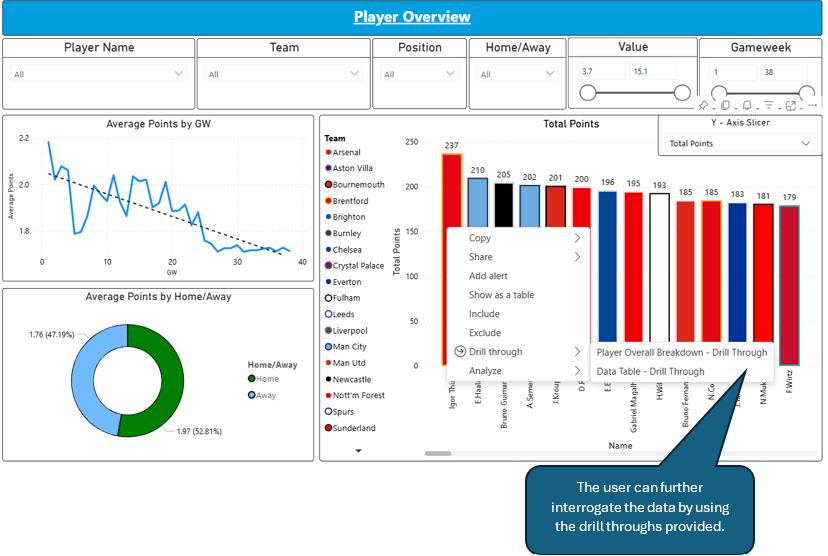

Layout of this report page (visuals, bound fields, positions):
{"tool":"powerbi","page":{"name":"Player Overview","canvas":[1280,720],"ordinal":1},"visuals":[{"type":"columnChart","fields":{"Y":["FPL_predicted_point.Sum_actual/predicted_points"],"Category":["FPL_predicted_point.Report_name"],"Series":["FPL_predicted_point.team"]},"box":[495.3,178.9,784.7,540.7],"z":0,"group":"g2"},{"type":"group","id":"g1","title":"Group 1","box":[0,58.2,1280,112.9],"z":1000},{"type":"slicer","title":"Team","fields":{"Values":["FPL_predicted_point.team"]},"box":[303.9,60,271.6,111.1],"z":1000,"group":"g1"},{"type":"textbox","box":[0,0,1280,55.6],"z":2000},{"type":"slicer","title":"Position","fields":{"Values":["FPL_predicted_point.position","FPL_predicted_point.name"]},"box":[578.2,60,147,110.3],"z":2000,"group":"g1"},{"type":"slicer","title":"Gameweek","fields":{"Values":["FPL_predicted_point.GW"]},"box":[1088.2,59.1,191.8,110.3],"z":3000,"group":"g1"},{"type":"donutChart","title":"Average Points by Home/Away","fields":{"Category":["FPL_predicted_point.Home/Away"],"Y":["Avg(FPL_predicted_point.Actual/Predicted Points)"]},"box":[0,449.7,486.1,270.4],"z":3000},{"type":"slicer","title":"Value","fields":{"Values":["FPL_predicted_point.value"]},"box":[882.9,58.2,202.6,111.1],"z":4000,"group":"g1"},{"type":"lineChart","title":"Average Points by GW","fields":{"Category":["FPL_predicted_point.GW"],"Y":["Avg(FPL_predicted_point.Actual/Predicted Points)"]},"box":[0,179.3,486.1,260.4],"z":4000},{"type":"slicer","title":"Home/Away","fields":{"Values":["FPL_predicted_point.Home/Away"]},"box":[727.8,59.1,152.4,111.1],"z":5000,"group":"g1"},{"type":"slicer","title":"Player Name","fields":{"Values":["FPL_predicted_point.name"]},"box":[0,60,301.2,111.1],"z":6000,"group":"g1"},{"type":"slicer","title":"Y - Axis Slicer","fields":{"Values":["Y-Axis.Y-Axis"]},"box":[1023.6,178.9,256.4,64.1],"z":6000,"group":"g2"},{"type":"group","id":"g2","title":"Group 2","box":[495.3,178.9,784.7,540.7],"z":6001}]}

Visuals, with their boxes on the page's 1280x720 design canvas (x1, y1, x2, y2). These are canvas units, not pixel positions in the 828x556 screenshot, which may show the page scaled, cropped or inside an application window:
columnChart - FPL_predicted_point.Sum_actual/predicted_points x FPL_predicted_point.Report_name: detection(495, 179, 1280, 720)
"Group 1" group: detection(0, 58, 1280, 171)
"Team" slicer: detection(304, 60, 576, 171)
textbox: detection(0, 0, 1280, 56)
"Position" slicer: detection(578, 60, 725, 170)
"Gameweek" slicer: detection(1088, 59, 1280, 169)
"Average Points by Home/Away" donutChart: detection(0, 450, 486, 720)
"Value" slicer: detection(883, 58, 1086, 169)
"Average Points by GW" lineChart: detection(0, 179, 486, 440)
"Home/Away" slicer: detection(728, 59, 880, 170)
"Player Name" slicer: detection(0, 60, 301, 171)
"Y - Axis Slicer" slicer: detection(1024, 179, 1280, 243)
"Group 2" group: detection(495, 179, 1280, 720)
